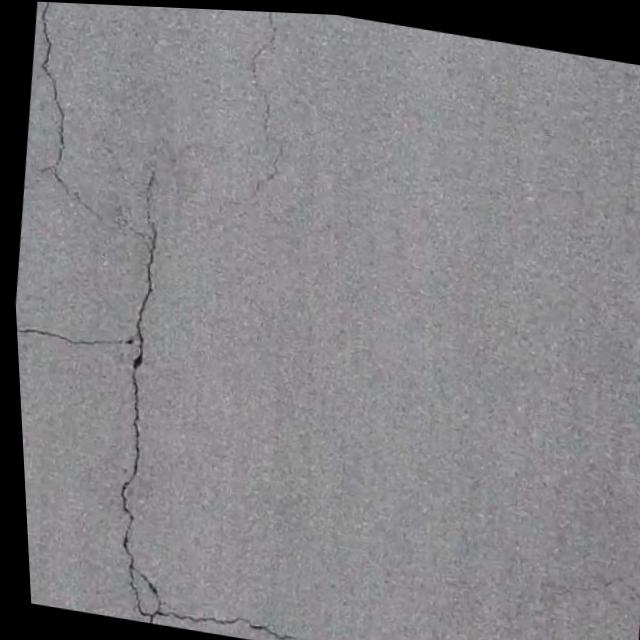Crack: (7, 178, 398, 640), (12, 0, 156, 224)
